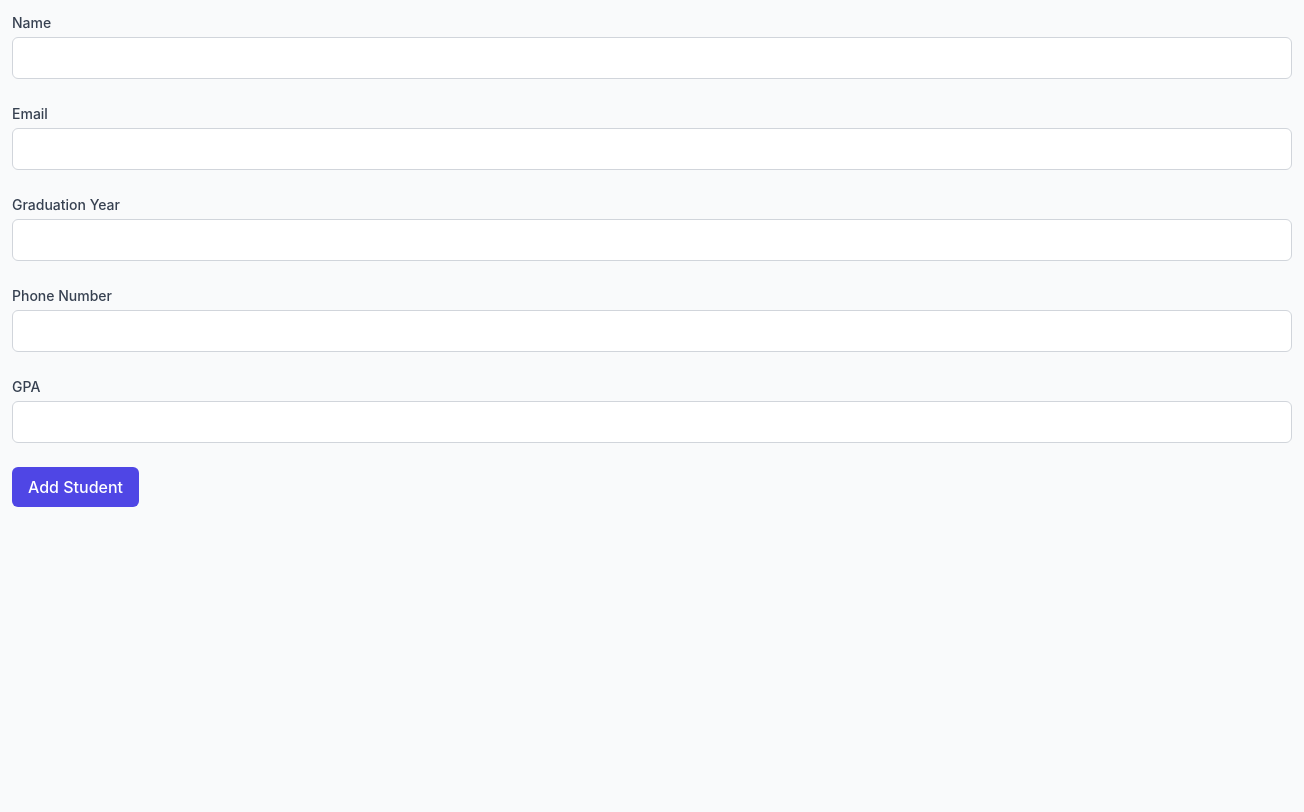
Test case: StudentForm › shows validation errors on empty required fields
Click the button "Add Student" at (76, 487), box [12,467,139,507]
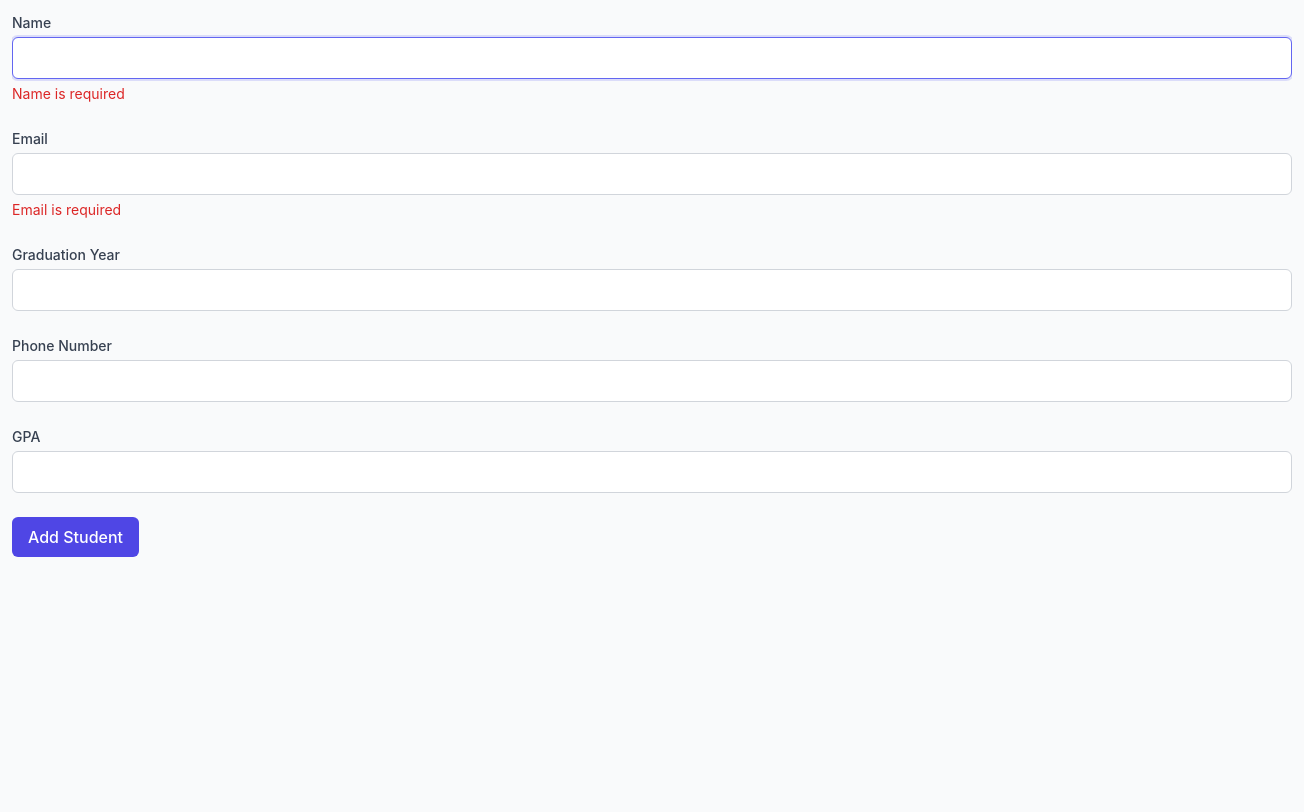
Now the text "Name is required" is shown, box [12,85,125,102]
Now the text "Email is required" is shown, box [12,201,121,218]
